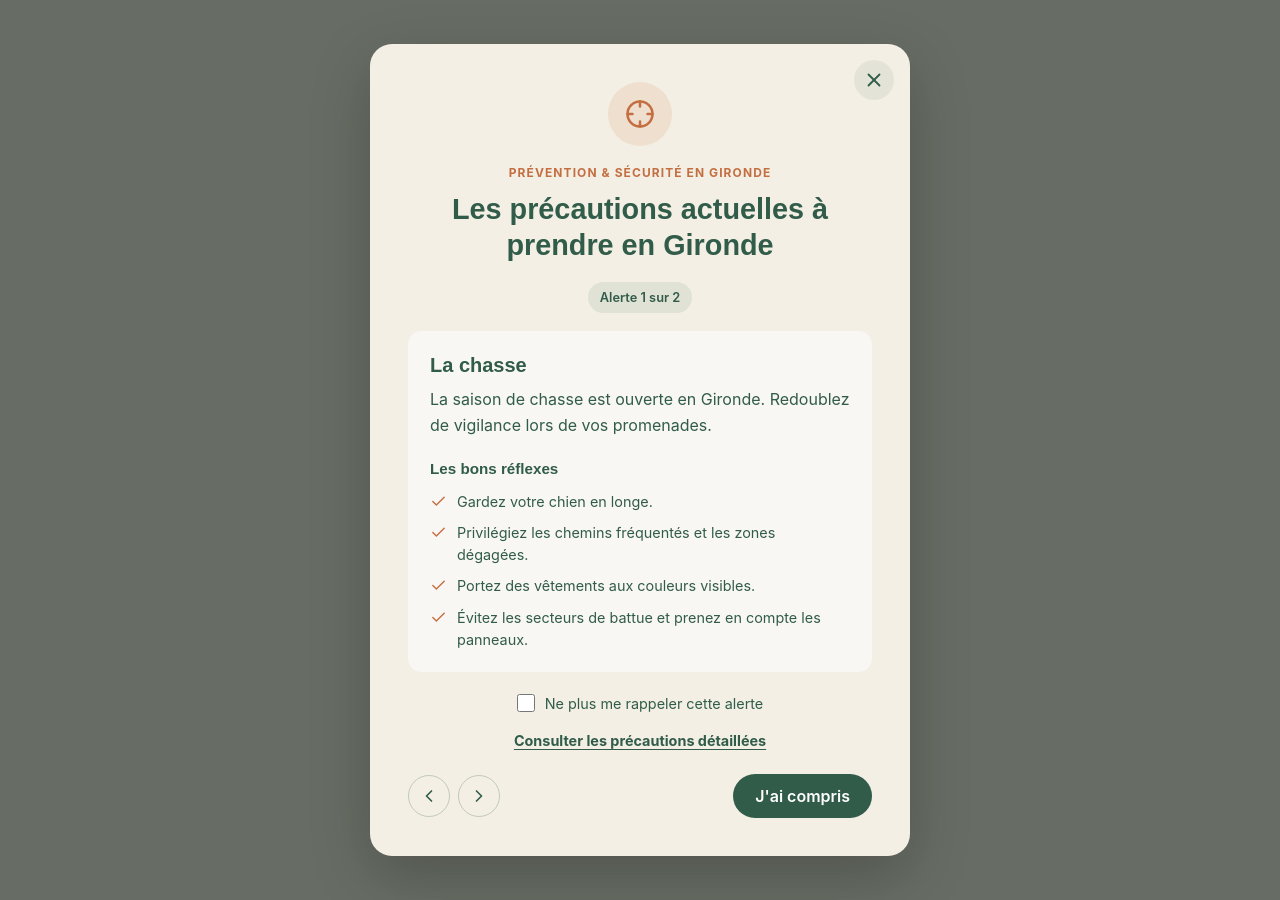
Test: SeasonalAlertModal › permet de passer à l'alerte suivante
Step 1. Click the button named "Alerte suivante" → point(479, 796), box [458,775,500,817]
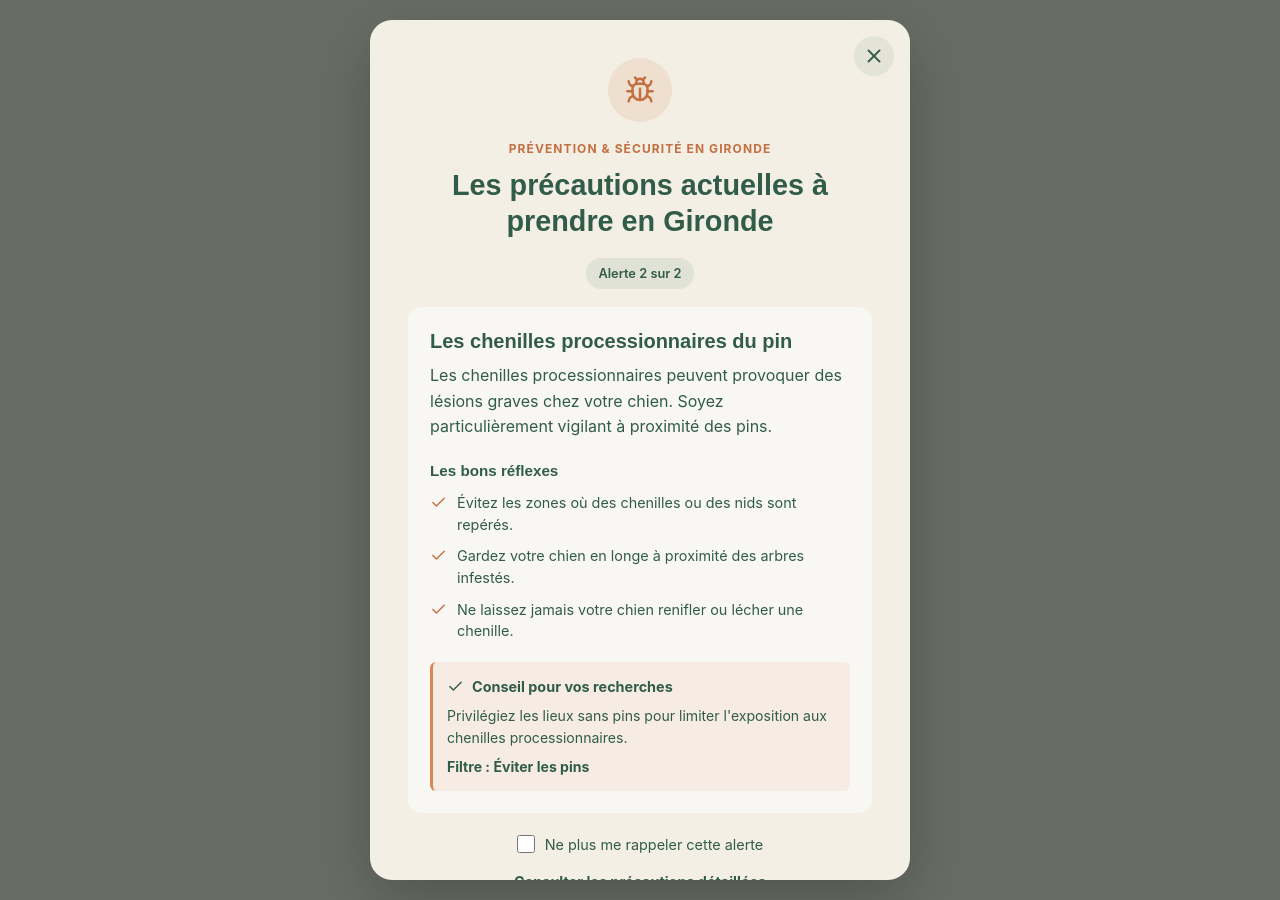
Result: the heading "Les chenilles processionnaires du pin" is shown at [430,329,850,353]
